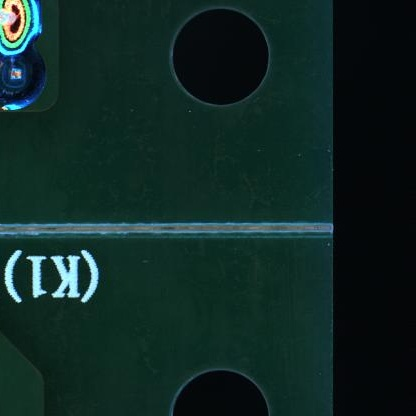spot: (1, 49, 50, 111)
